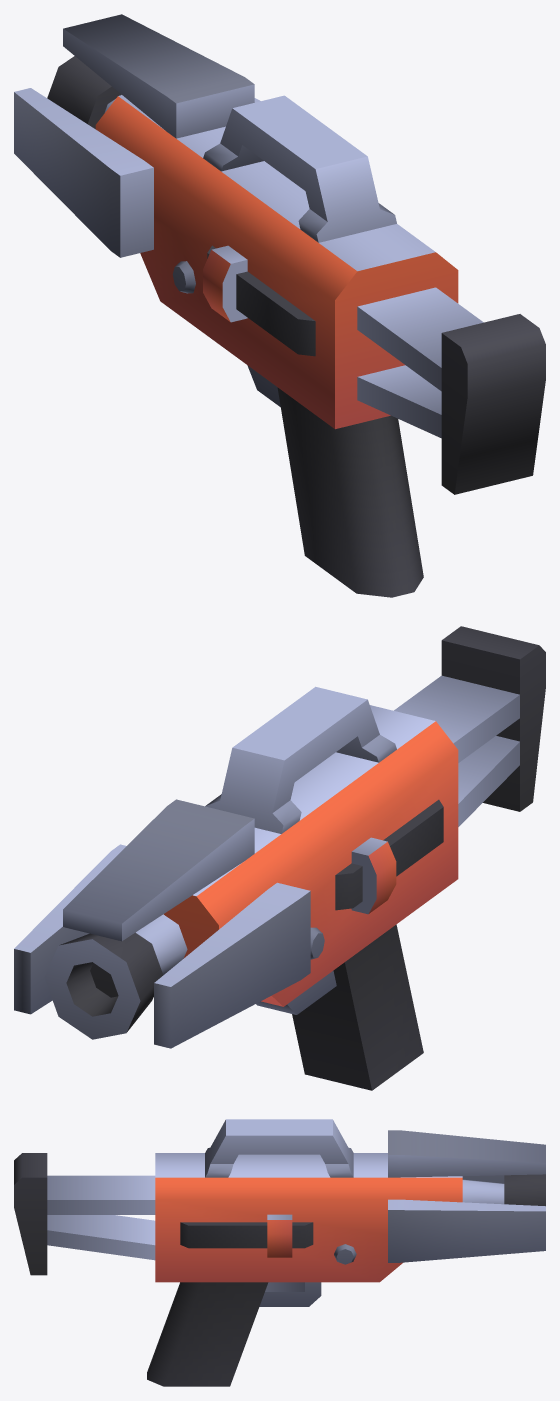
Rendered from rifle.glb.
3 renders of one model, top to bottom at view 1: azimuth 30°, elevation 25°; view 2: azimuth 150°, elevation 25°; view 3: azimuth 270°, elevation 25°, orthographic. The views are drawn at different scales.
Visible parts, largest first — view 1: blaster-n; view 2: blaster-n; view 3: blaster-n.
Boxes of the visible parts, x1,y1,x2,y2 form: blaster-n: (14,14,545,597); blaster-n: (14,626,545,1090); blaster-n: (14,1119,545,1386).
Size of the model in its own units: 0.17 by 0.33 by 0.6401.
1 material, 1 textured.
